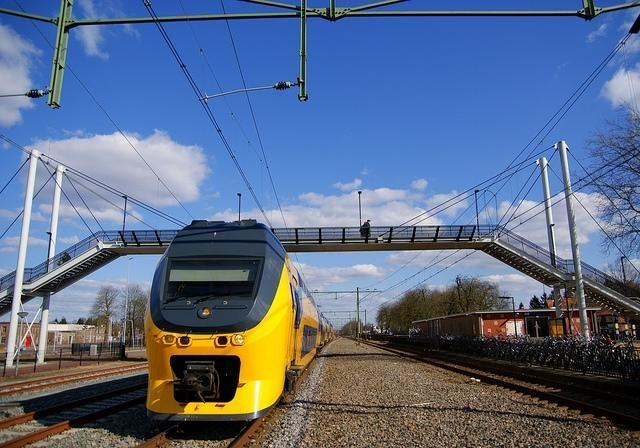bicycle: (604, 328, 640, 378), (528, 334, 558, 368), (580, 336, 606, 368), (562, 345, 570, 369), (456, 338, 470, 351)
